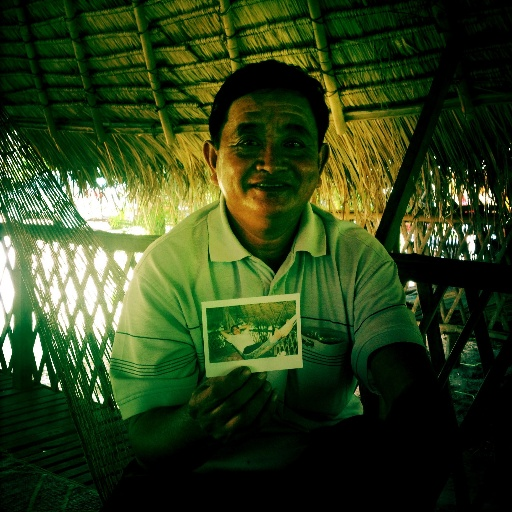hand: (194, 383, 287, 441)
